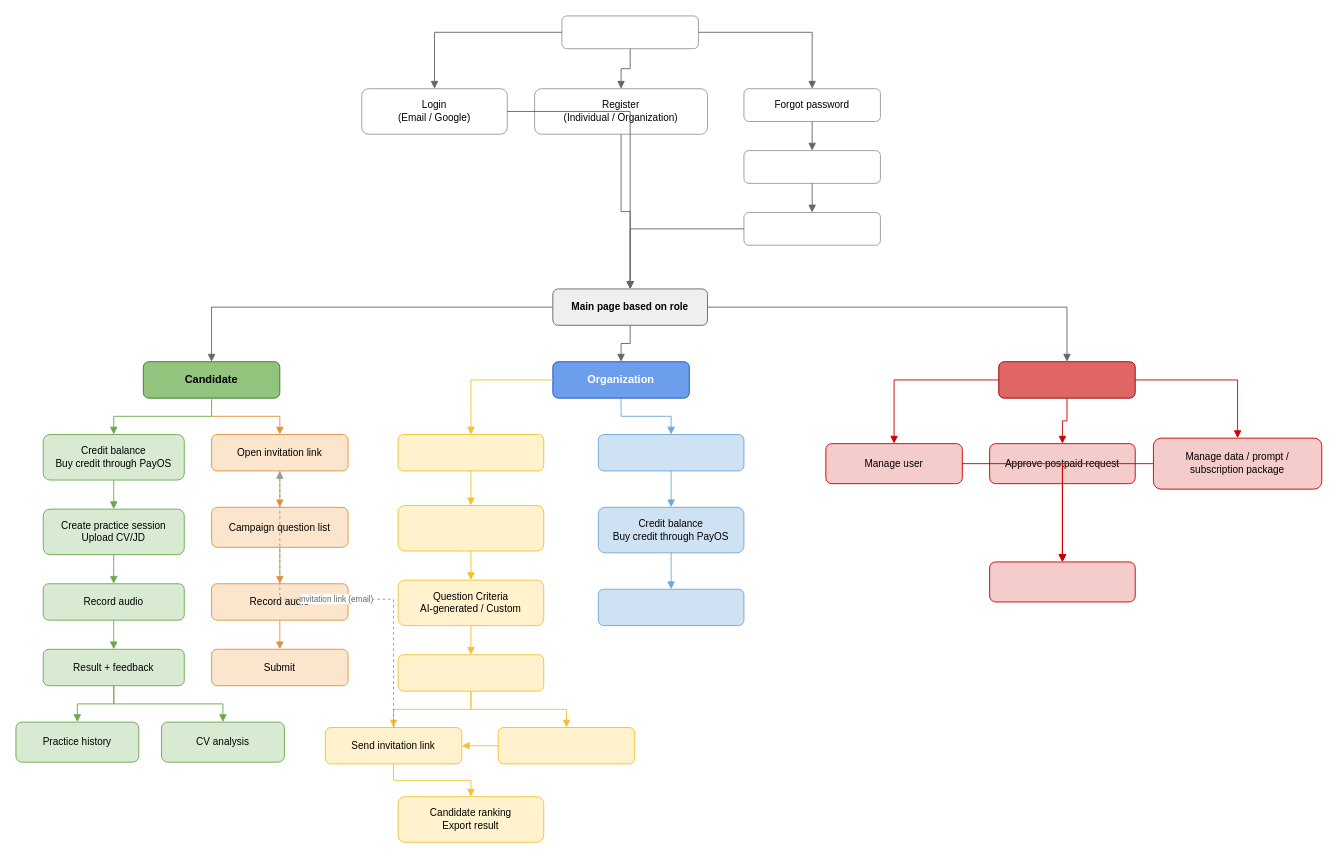
Image size: 1338x858. Some labels were removed from this diagram. Each missing label, with the box of its shape:
Admin: (998, 361, 1135, 398)
Campaign list: (397, 434, 544, 471)
Create campaign Upload JD / Question: (397, 505, 544, 551)
Filter uploaded CVs: (497, 727, 635, 764)
Landing page: (561, 15, 698, 49)
Organization Credit: (597, 434, 744, 471)
OTP verification: (743, 150, 880, 183)
Postpaid bills: (597, 588, 744, 626)
Publish campaign: (397, 654, 544, 691)
Reset password: (743, 212, 880, 245)
Transactions Report: (989, 561, 1135, 602)
